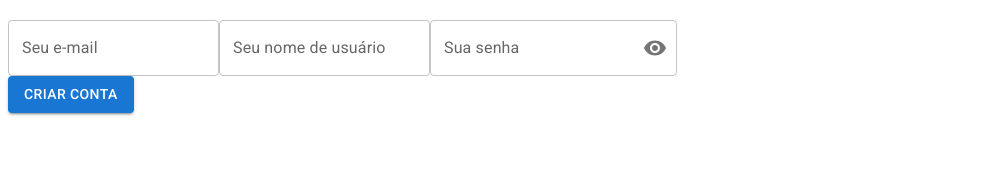
it: Create Account Form - account validation schema › password › renders input error messages when try submit form with password without number
The image size is (998, 172).
Type "@Abcdefg" into the password field labelled "Sua senha". click: (528, 48)
box: x1=430 y1=20 x2=627 y2=76
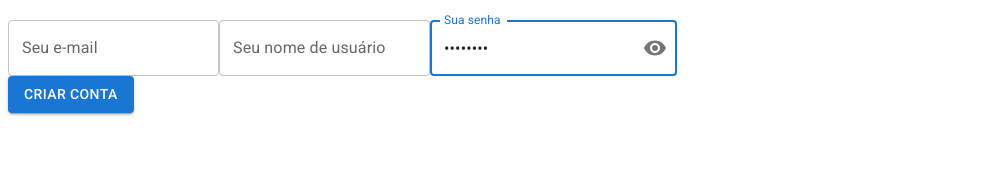
Click the button "Criar conta". click: (71, 94)
box: x1=8 y1=76 x2=134 y2=112
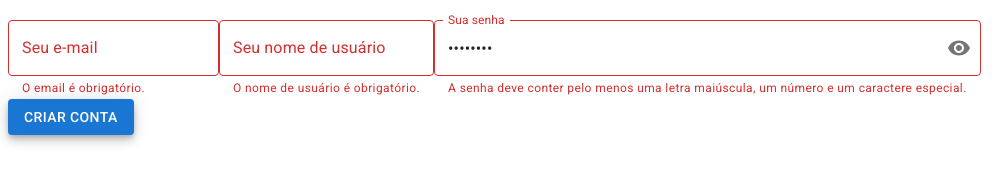
Result: the text "A senha deve conter pelo menos uma letra maiúscula, um número e um caractere especial." is shown at x1=448 y1=81 x2=967 y2=95
